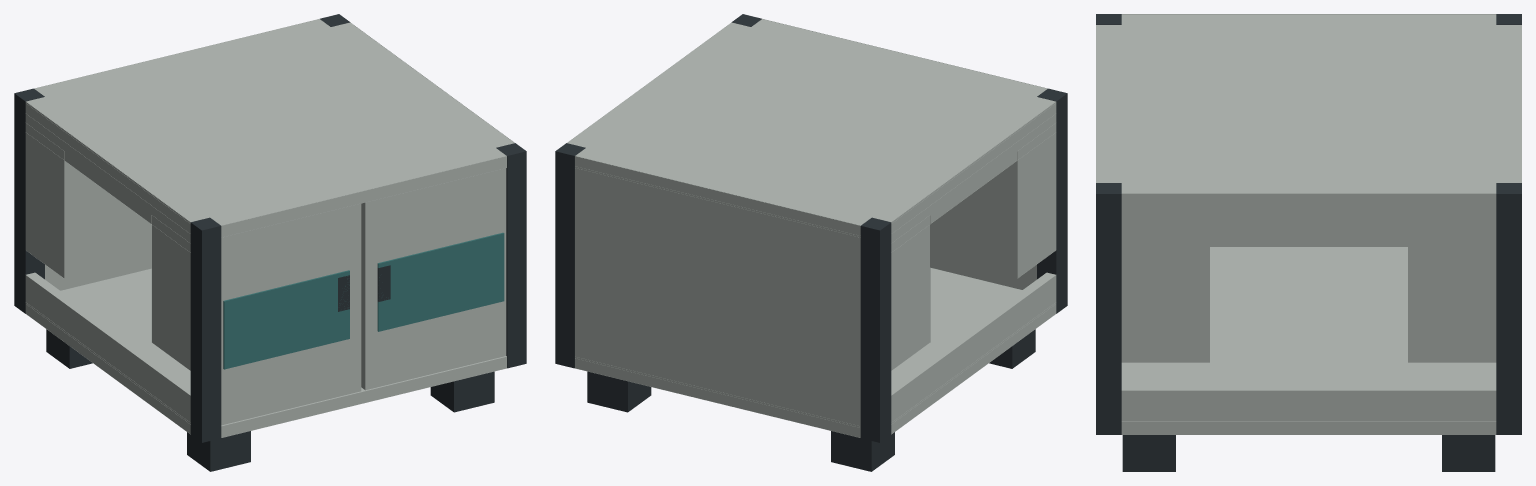
File: storage-v2.glb
The picture shows the model from 3 angles, left to right: view 1: azimuth 30°, elevation 25°; view 2: azimuth 150°, elevation 25°; view 3: azimuth 270°, elevation 25°; orthographic projection. The views are drawn at different scales.
Parts seen in each view (by area): view 1: body, support_1, support_3, support_0; view 2: body, support_0, support_2, support_1; view 3: body, support_2, support_3.
Part boxes in pixels (bbox=[...]): body: bbox=[14, 14, 526, 442]; support_1: bbox=[187, 431, 250, 471]; support_3: bbox=[430, 371, 494, 412]; support_0: bbox=[46, 329, 92, 368]; body: bbox=[555, 14, 1067, 442]; support_0: bbox=[831, 431, 894, 471]; support_2: bbox=[587, 371, 651, 412]; support_1: bbox=[989, 329, 1035, 368]; body: bbox=[1096, 14, 1521, 434]; support_2: bbox=[1442, 435, 1495, 471]; support_3: bbox=[1122, 435, 1175, 471].
Bounding box in the file's own units: 2 × 1.5 × 2.
